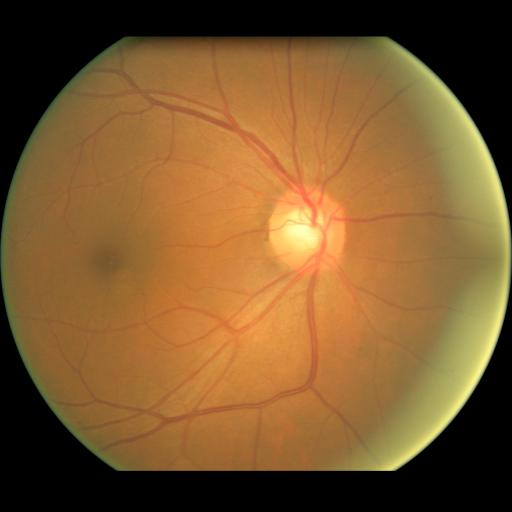Optic Cup: (285, 207, 332, 253)
Optic Disc: (269, 184, 347, 273)
